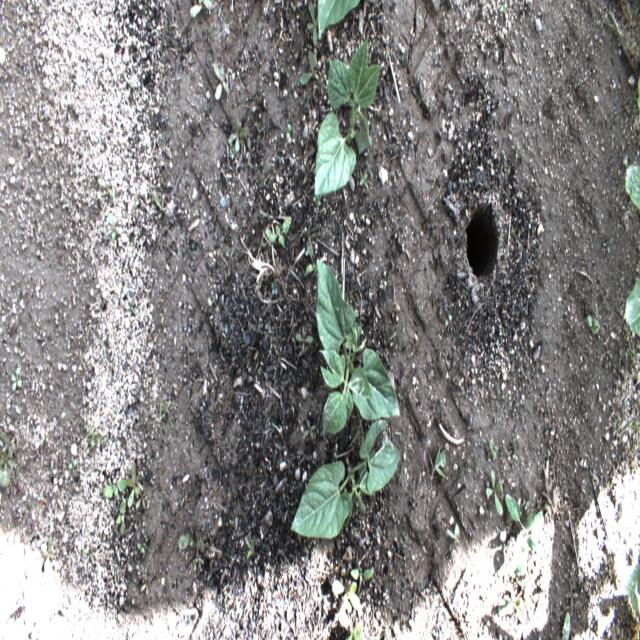crop: (316, 256, 401, 436), (290, 417, 401, 539), (314, 38, 381, 194), (317, 0, 363, 39), (620, 559, 639, 618), (624, 278, 640, 335), (625, 162, 640, 214)
weed: (506, 492, 544, 576), (332, 576, 363, 628), (150, 398, 179, 438), (178, 530, 204, 573), (264, 215, 294, 247), (484, 470, 504, 518), (307, 1, 326, 47), (428, 444, 449, 485), (126, 464, 144, 508), (213, 62, 231, 101), (229, 119, 249, 154), (304, 244, 324, 278), (497, 593, 524, 618), (298, 51, 317, 86), (82, 420, 101, 452), (102, 478, 128, 498), (555, 608, 572, 638), (295, 326, 313, 354), (350, 564, 375, 584), (41, 536, 54, 574), (1, 430, 18, 458), (189, 0, 212, 19), (344, 618, 364, 639), (0, 447, 16, 473), (116, 497, 126, 538), (153, 192, 167, 220), (134, 484, 148, 511), (107, 212, 120, 240), (96, 177, 114, 197), (245, 136, 257, 166), (586, 314, 601, 337), (10, 365, 23, 391), (244, 534, 256, 561), (445, 523, 460, 542), (83, 545, 95, 563), (0, 468, 11, 486), (136, 543, 146, 553), (68, 460, 77, 469)
